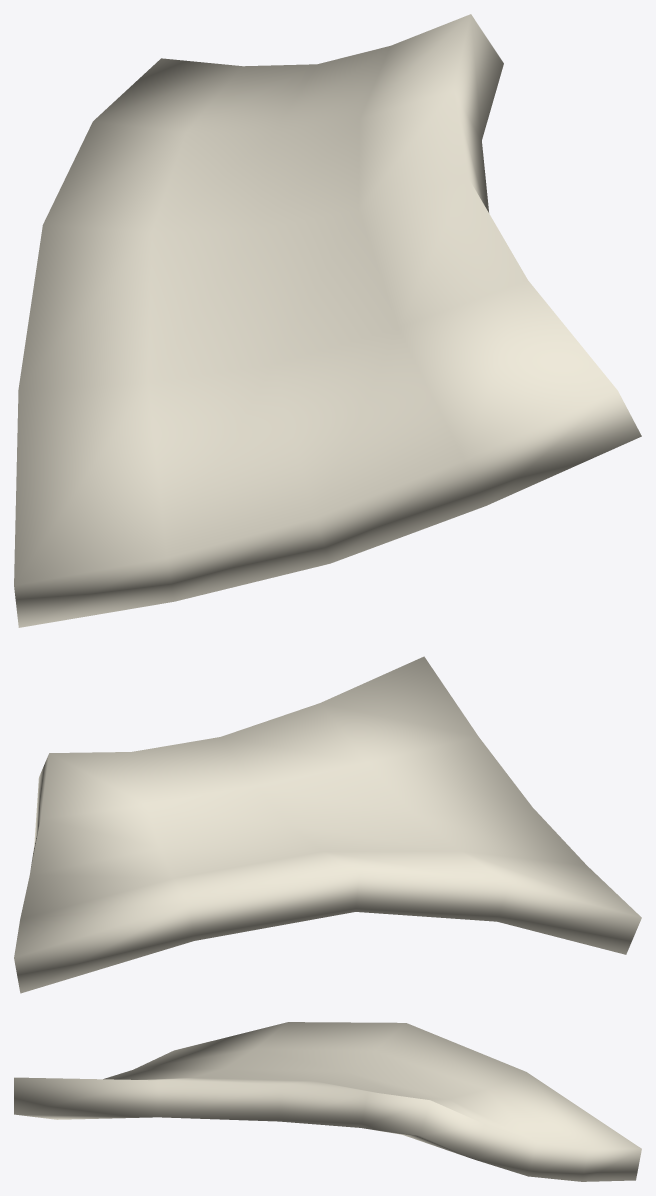
3 views of the same model, one above another, from view 1: azimuth 30°, elevation 25°; view 2: azimuth 150°, elevation 25°; view 3: azimuth 270°, elevation 25° (orthographic). The views are drawn at different scales.
Parts seen in each view (by area): view 1: ZA_7257a844d61c207c; view 2: ZA_7257a844d61c207c; view 3: ZA_7257a844d61c207c.
Boxes of the visible parts, <box> form: ZA_7257a844d61c207c: <box>14,14,641,627</box>; ZA_7257a844d61c207c: <box>14,656,641,993</box>; ZA_7257a844d61c207c: <box>14,1022,641,1181</box>.
Size of the model in its own units: 0.00638 by 0.00259 by 0.00849.
